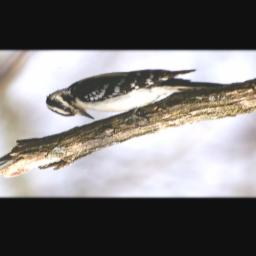Woodpecker: (33, 64, 229, 122)
